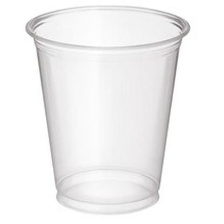glass: (21, 2, 196, 214)
